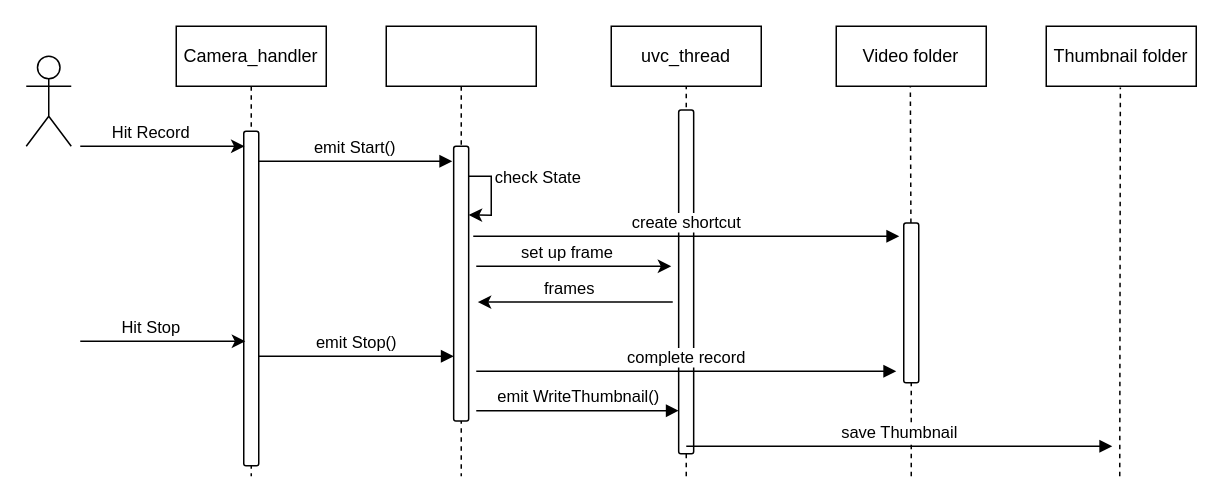
Some shapes in this 1223 by 504 pixel diagram are drawn without their labels. The box of each missing label's shape, as (x1, y1, x2, y2) in pixels:
Actor: (25, 55, 71, 146)
Encoder: (385, 25, 536, 476)
